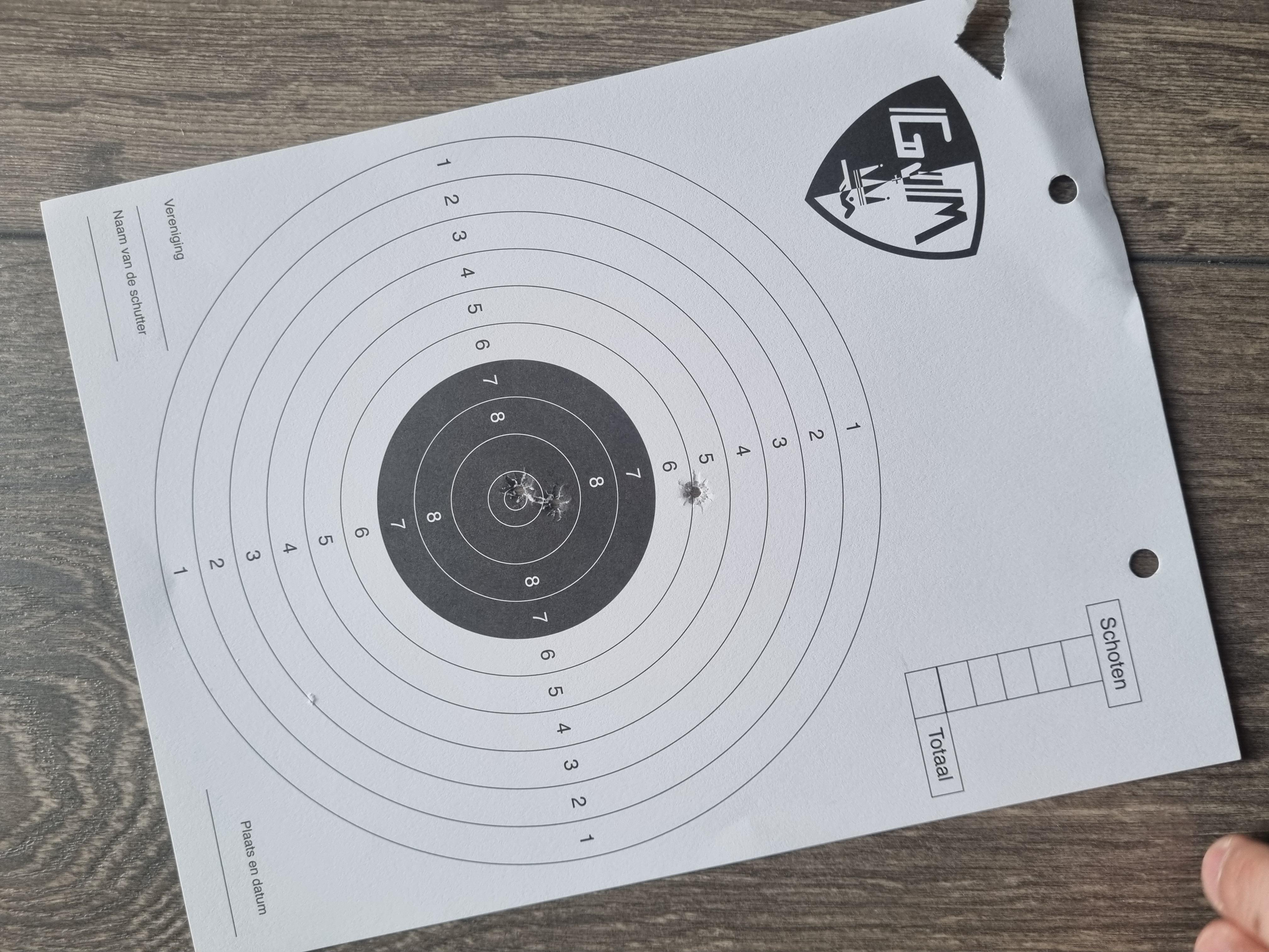hole: (583, 508, 642, 534), (575, 400, 624, 428), (598, 375, 639, 403)
